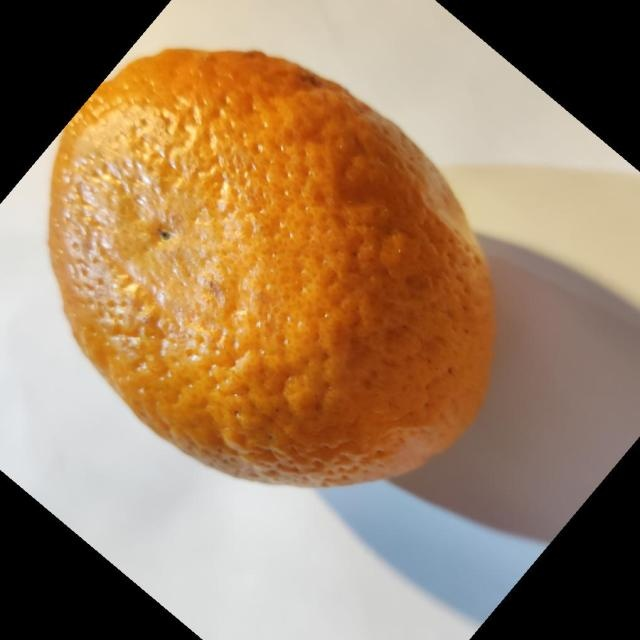agrume: (47, 46, 497, 489)
